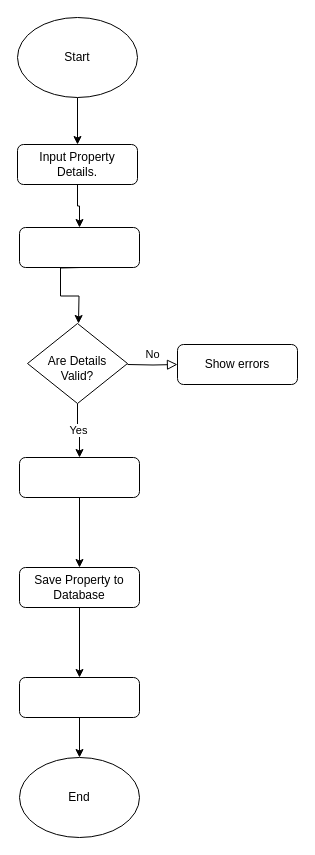
This 315x855 diagram has some shape labels left out. The centre of each missing label's shape, as x and y in pixels:
"Confirmation" goes at point 79,697.
"Upload Property Images" goes at point 79,477.
"Validate Property Details" goes at point 79,247.
